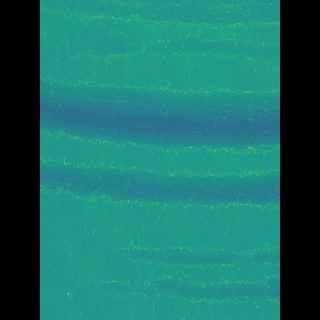Loch: (71, 81, 251, 150), (72, 0, 251, 66), (115, 233, 250, 311), (69, 160, 250, 210)
